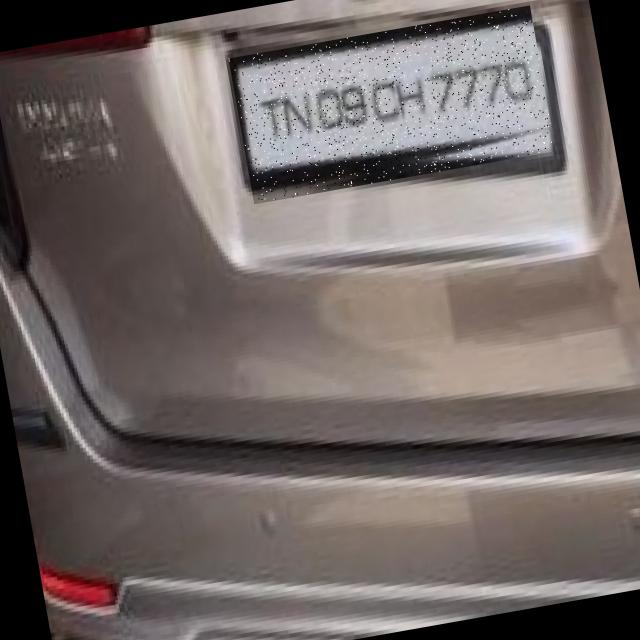Plate: (229, 6, 556, 205)
